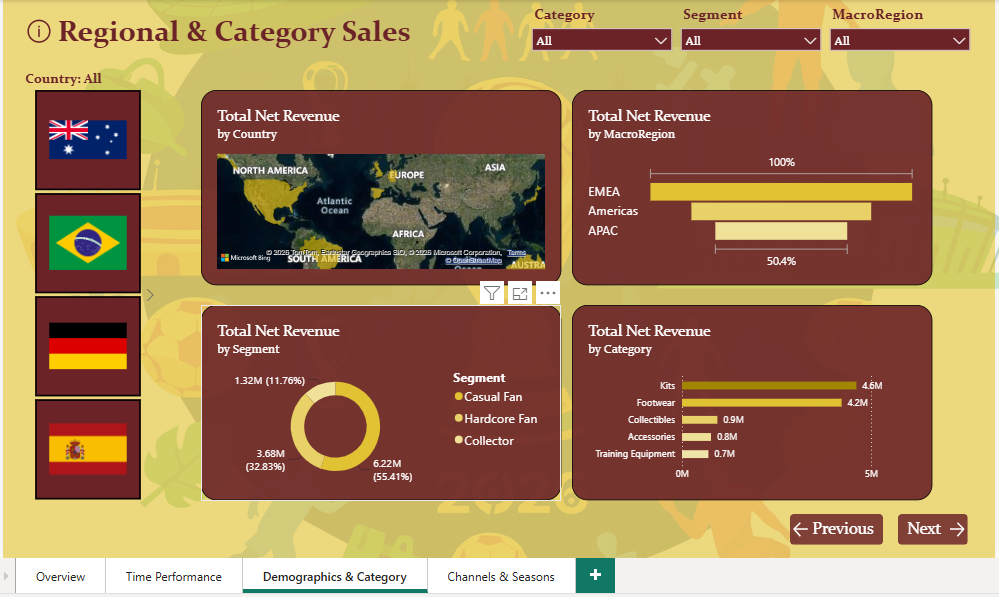

What the dashboard file says about the page in this screenshot:
{"tool":"powerbi","page":{"name":"Demographics & Category","canvas":[1280,720],"ordinal":2},"visuals":[{"type":"textbox","box":[58.1,17,480.5,59.5],"z":0},{"type":"filledMap","fields":{"Category":["Region.Country"]},"box":[255.1,116.2,464.9,252.3],"z":1000},{"type":"barChart","fields":{"Category":["Product.Category"],"Y":["Sales.Total Net Revenue"]},"box":[734.2,394,464.9,252.3],"z":2000},{"type":"funnel","fields":{"Category":["Customer.MacroRegion"],"Y":["Sales.Total Net Revenue"]},"box":[734.2,116.2,464.9,252.3],"z":3000},{"type":"donutChart","fields":{"Y":["Sales.Total Net Revenue"],"Category":["Customer.Segment"]},"box":[255.1,394,464.9,252.3],"z":4000},{"type":"slicer","fields":{"Values":["Customer.FlagURL"]},"box":[21.3,90.7,175.7,555.6],"z":5000},{"type":"slicer","fields":{"Values":["Product.Category"]},"box":[678,7.1,191,70.9],"z":6000},{"type":"slicer","fields":{"Values":["Customer.Segment"]},"box":[870.2,7.1,191.3,70.9],"z":7000},{"type":"slicer","fields":{"Values":["Customer.MacroRegion"]},"box":[1061.6,7.1,191.3,70.9],"z":8000},{"type":"actionButton","box":[1016,663.3,120,39.7],"z":9000},{"type":"actionButton","box":[1155,663,90,39.7],"z":10000},{"type":"actionButton","box":[22,17,49,46],"z":12000}]}

Visuals, with their boxes on the page's 1280x720 design canvas (x1, y1, x2, y2). These are canvas units, not pixel positions in the 999x597 screenshot, which may show the page scaled, cropped or inside an application window:
textbox: {"left": 58, "top": 17, "right": 539, "bottom": 76}
filledMap - Region.Country: {"left": 255, "top": 116, "right": 720, "bottom": 368}
barChart - Product.Category x Sales.Total Net Revenue: {"left": 734, "top": 394, "right": 1199, "bottom": 646}
funnel - Customer.MacroRegion x Sales.Total Net Revenue: {"left": 734, "top": 116, "right": 1199, "bottom": 368}
donutChart - Sales.Total Net Revenue x Customer.Segment: {"left": 255, "top": 394, "right": 720, "bottom": 646}
slicer - Customer.FlagURL: {"left": 21, "top": 91, "right": 197, "bottom": 646}
slicer - Product.Category: {"left": 678, "top": 7, "right": 869, "bottom": 78}
slicer - Customer.Segment: {"left": 870, "top": 7, "right": 1062, "bottom": 78}
slicer - Customer.MacroRegion: {"left": 1062, "top": 7, "right": 1253, "bottom": 78}
actionButton: {"left": 1016, "top": 663, "right": 1136, "bottom": 703}
actionButton: {"left": 1155, "top": 663, "right": 1245, "bottom": 703}
actionButton: {"left": 22, "top": 17, "right": 71, "bottom": 63}
